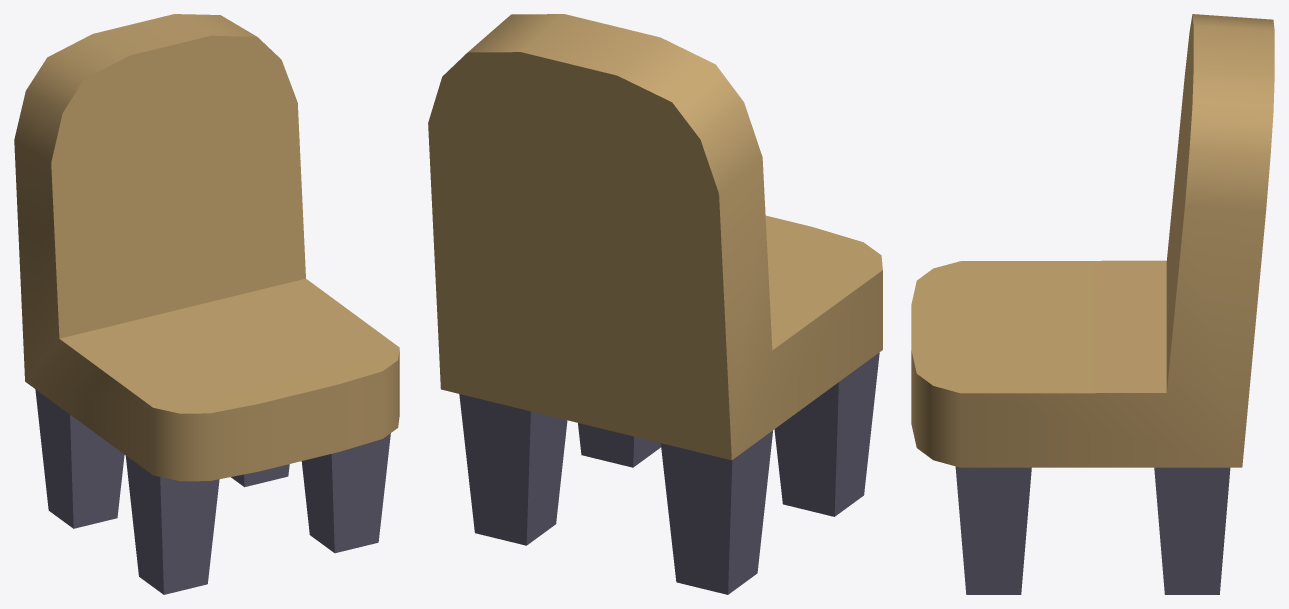
The model's file is chair_01.fbx.
The picture shows the model from 3 angles, left to right: view 1: azimuth 30°, elevation 25°; view 2: azimuth 150°, elevation 25°; view 3: azimuth 270°, elevation 25°; orthographic projection. The views are drawn at different scales.
Visible parts, largest first — view 1: chair_01; view 2: chair_01; view 3: chair_01.
Part boxes in pixels (x1,y1,x2,y2): chair_01: [14, 14, 399, 594]; chair_01: [428, 14, 882, 594]; chair_01: [911, 14, 1274, 594].
Size of the model in its own units: 50.44 by 87.35 by 58.56.
